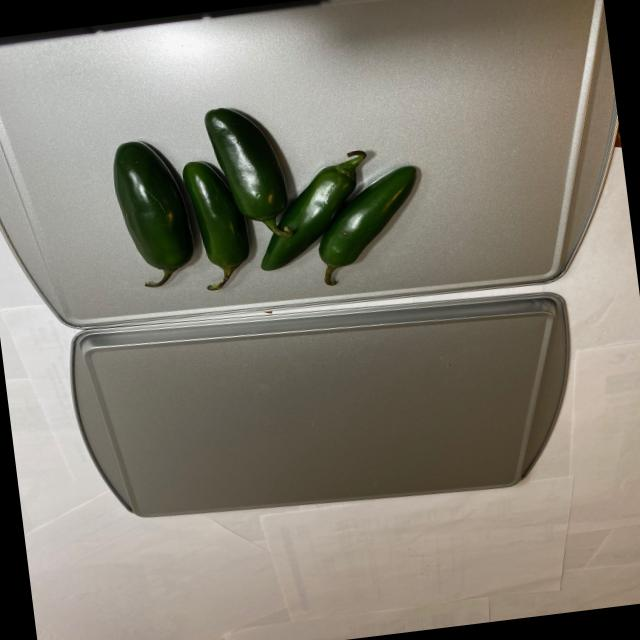chilli: (81, 78, 442, 312)
